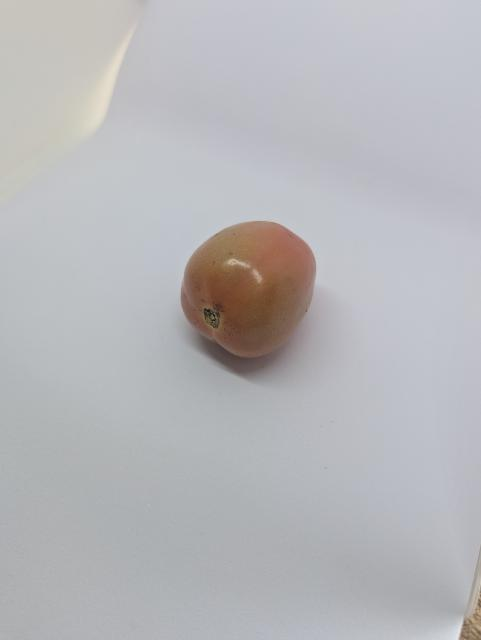turning: (178, 215, 319, 359)
